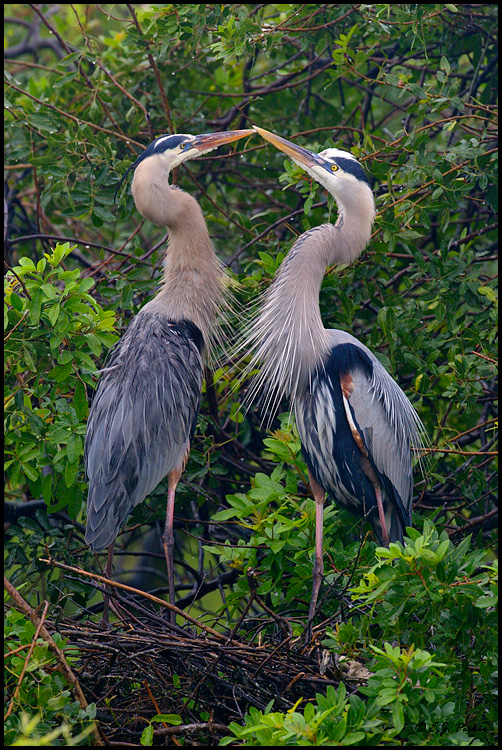heron: (253, 123, 431, 643), (83, 122, 253, 634)
